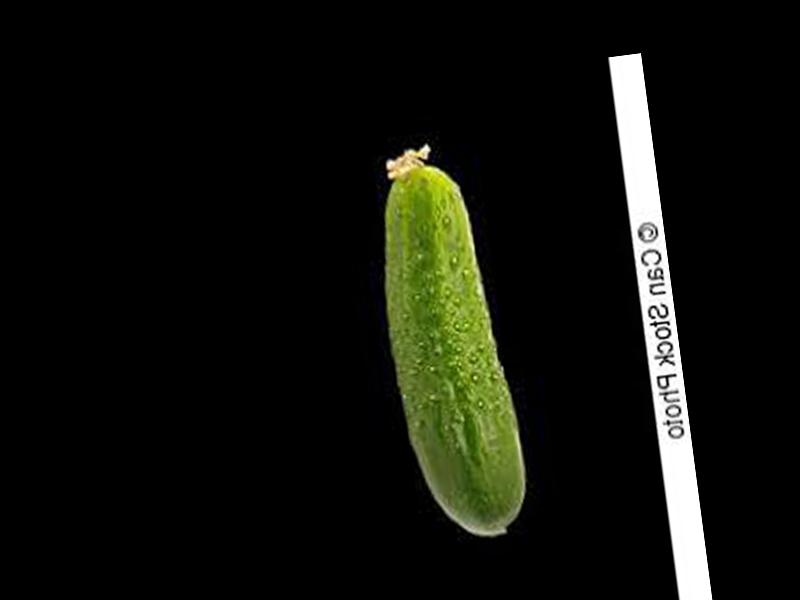Cucumber: (365, 137, 531, 546)
